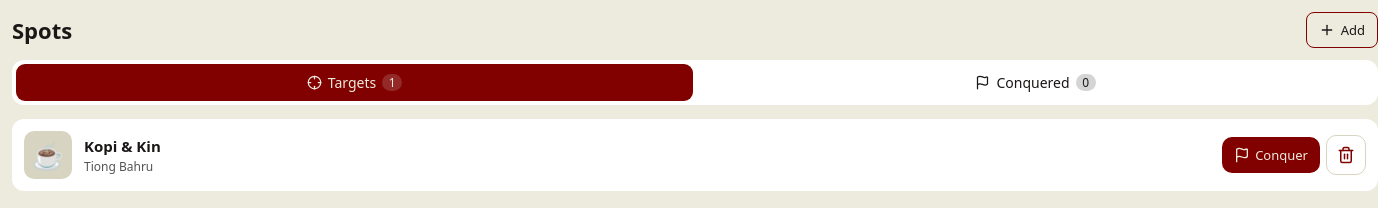
Remove deletes a spot
Click the button named "Remove Kopi & Kin".
click(1346, 155)  # box left=1326, top=135, right=1366, bottom=175
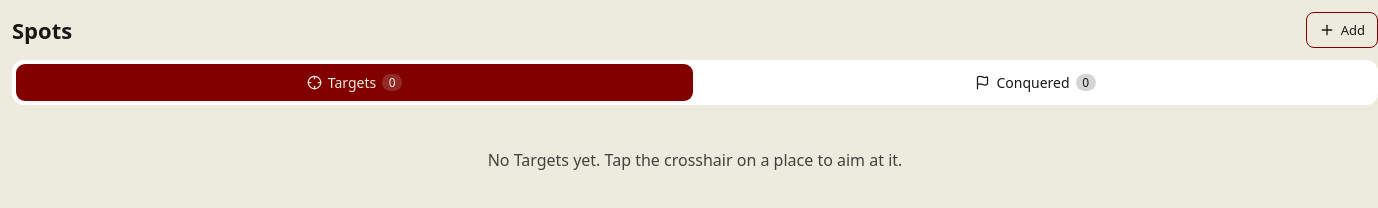
Expected: the heading "Kopi & Kin" is gone
Expected: the tab "Targets 0" is shown, left=16, top=64, right=693, bottom=101
